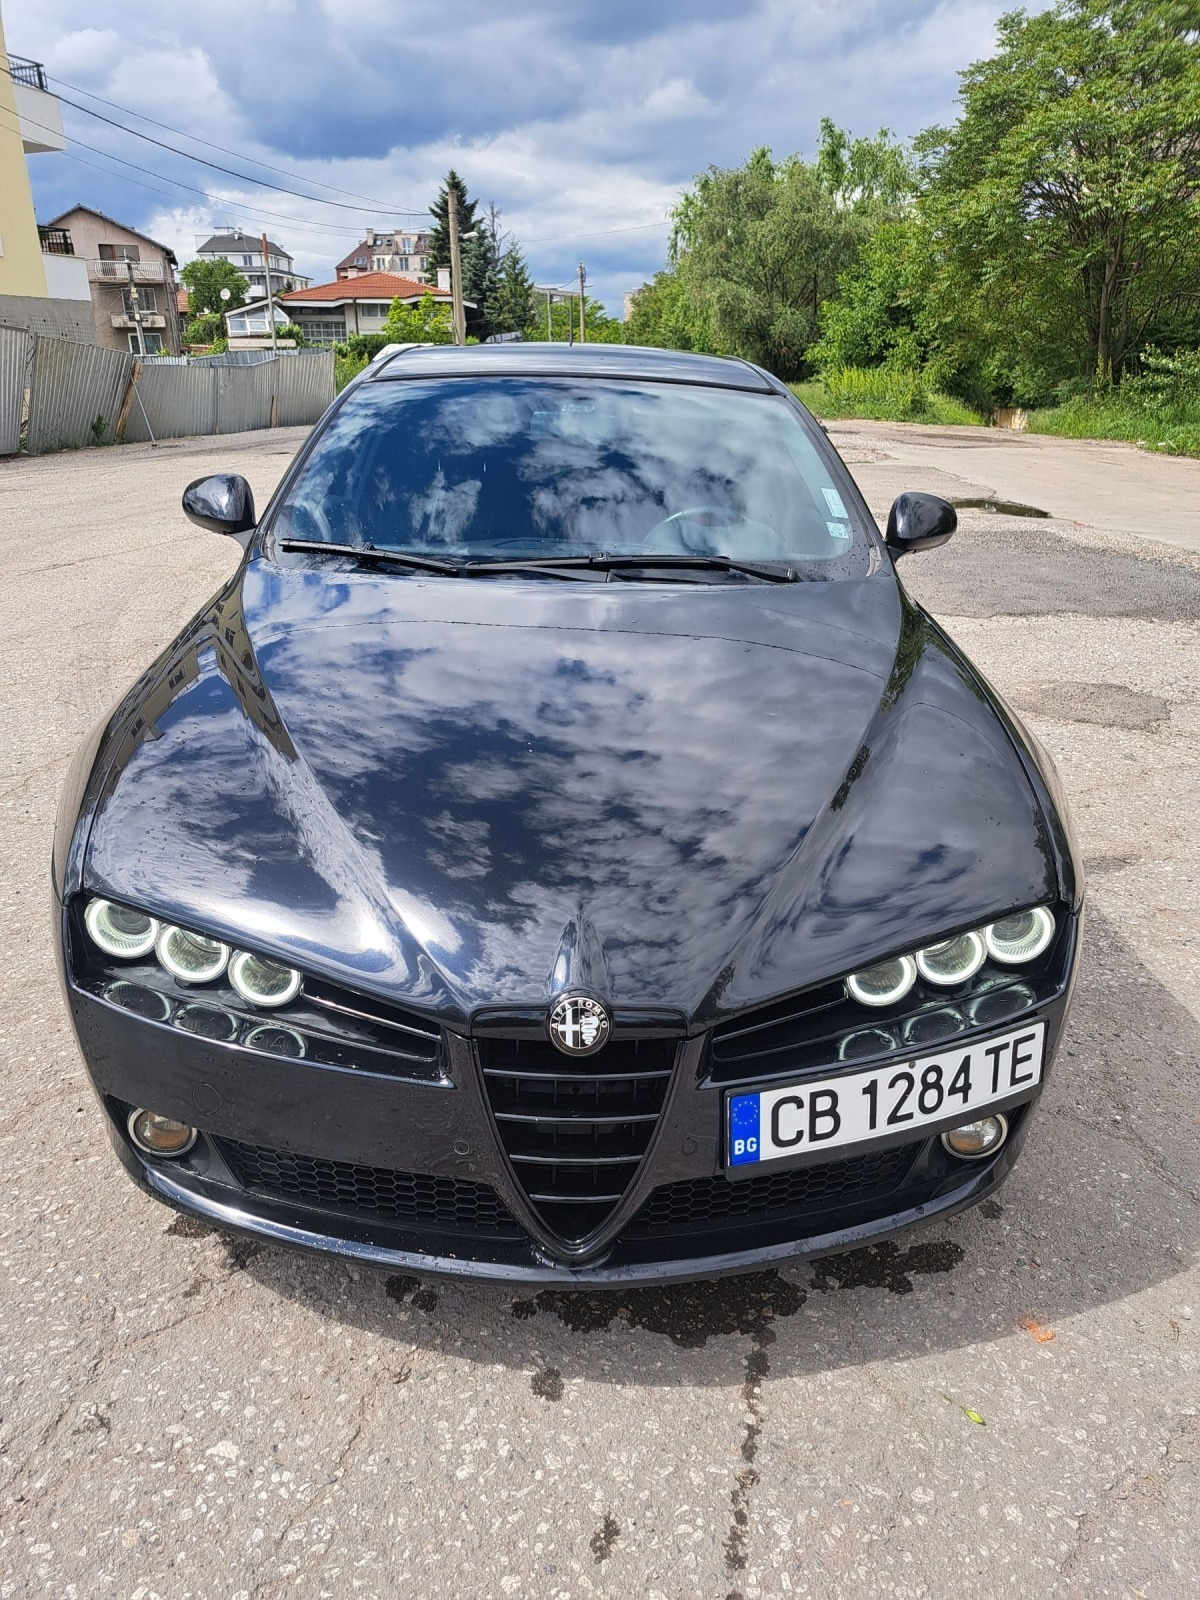registration_plate: (716, 1028, 1056, 1186)
